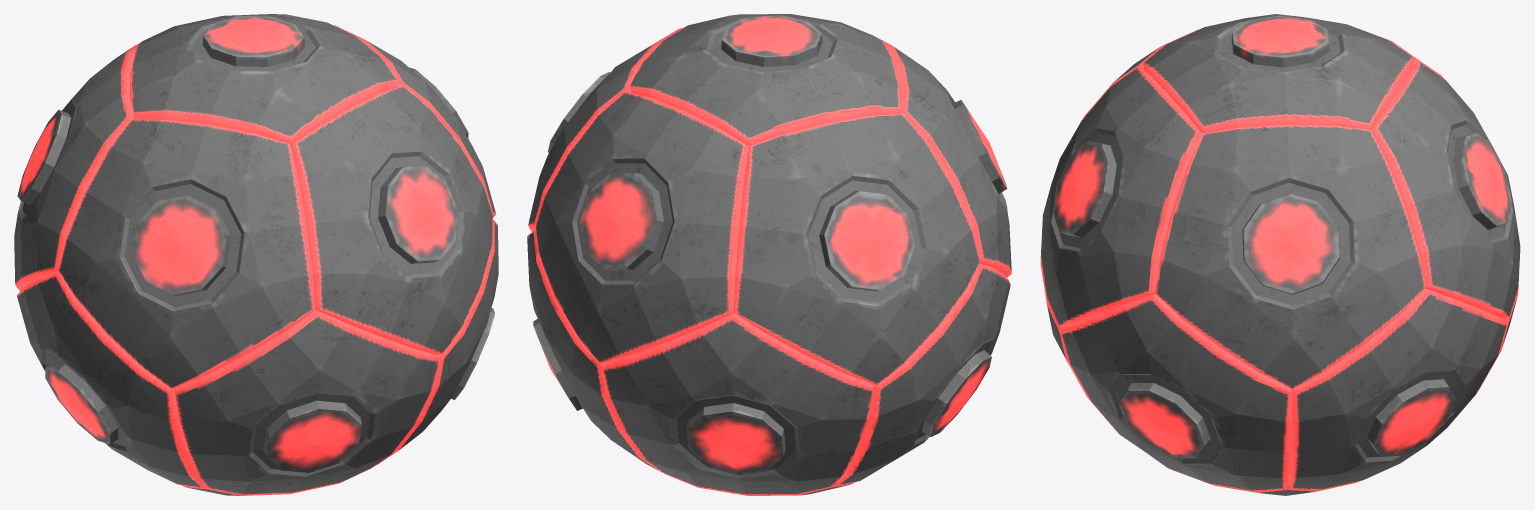
File: ballRedV1.fbx
3 renders of one model, left to right at view 1: azimuth 30°, elevation 25°; view 2: azimuth 150°, elevation 25°; view 3: azimuth 270°, elevation 25°, orthographic.
Parts seen in each view (by area): view 1: ballRed_GEO; view 2: ballRed_GEO; view 3: ballRed_GEO.
Part boxes in pixels (x1,y1,x2,y2): ballRed_GEO: (14, 14, 498, 495); ballRed_GEO: (527, 14, 1011, 495); ballRed_GEO: (1040, 14, 1520, 495).
Bounding box in the file's own units: 0.0151 × 0.0154 × 0.0151.
